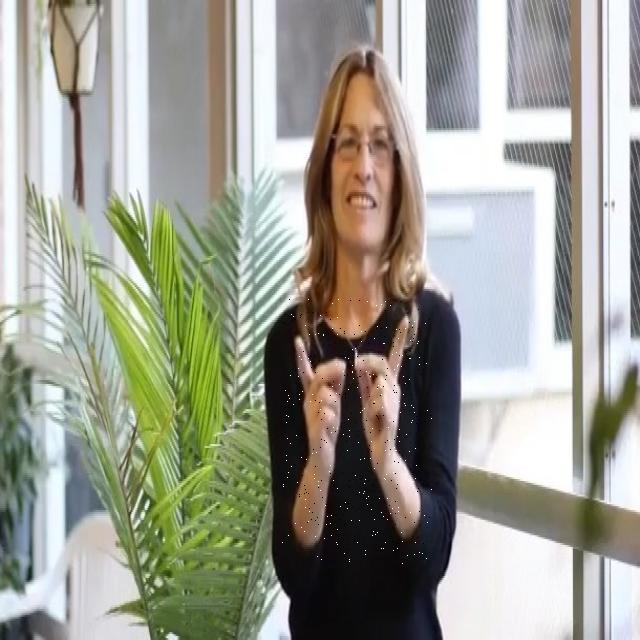sweet: (282, 299, 432, 564)
